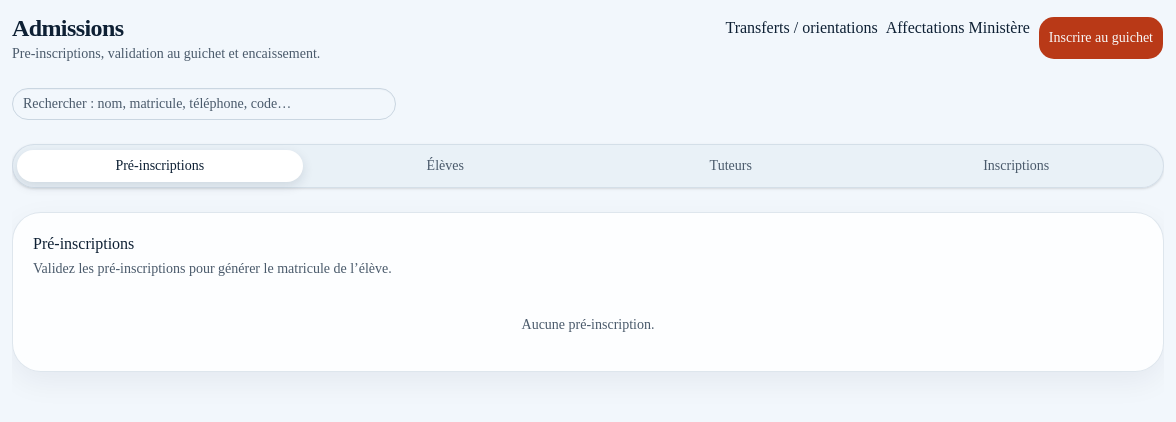
Test case: affiche l'état vide sans pagination quand aucun élève
The image size is (1176, 422).
Click the tab "Élèves".
click(445, 166)  # box [302,150,588,182]
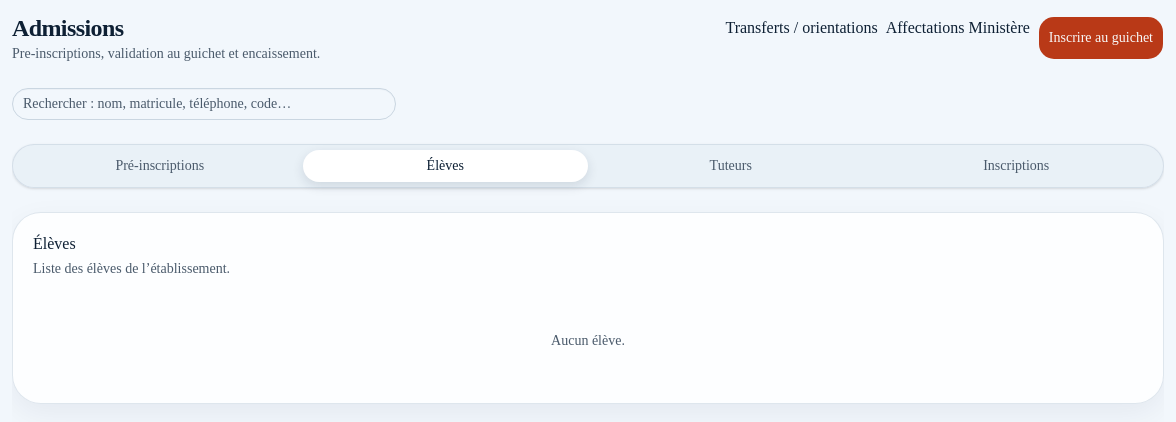
Now the text "Aucun élève." is shown, box [551,333,625,348]
